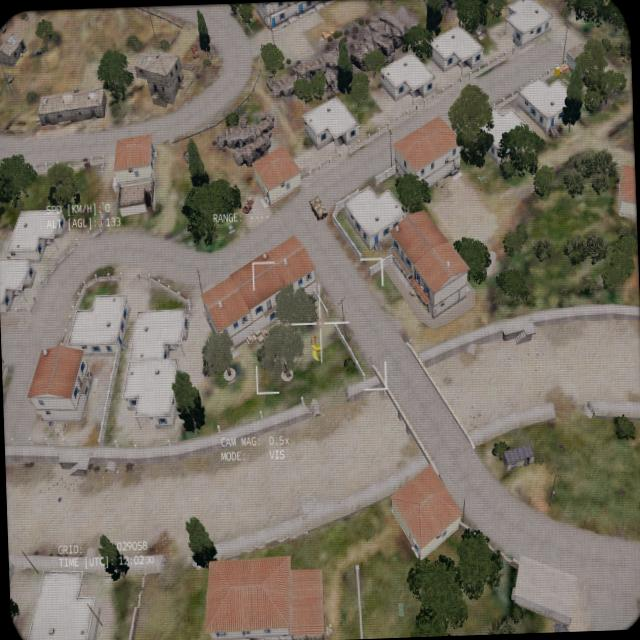apc: (308, 193, 326, 222)
